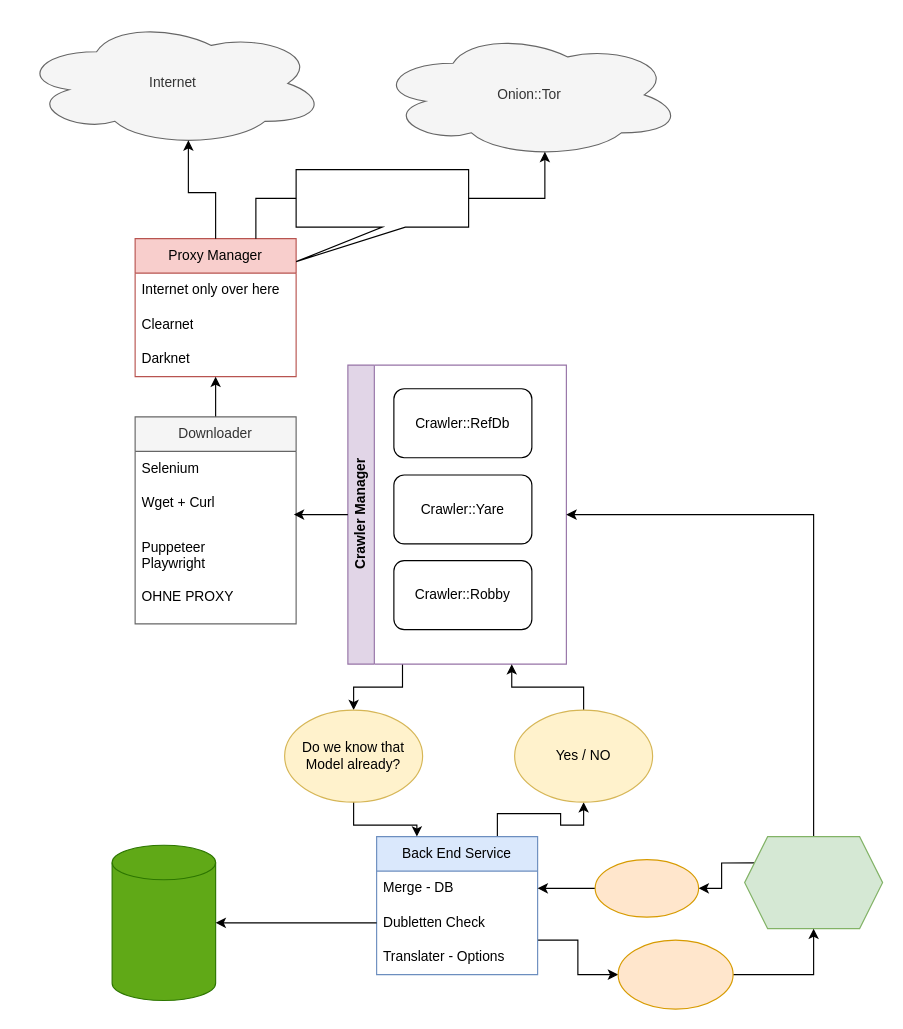
Some shapes in this 903 by 1029 pixel diagram are drawn without their labels. Each missing label, with the centre of its shape:
Controll Master: (813,882)
DB: (163,922)
I am the only one who knows the Internet, Clearnet, Darknet etc.: (382,215)
Is old?: (646,887)
Yes / No / do it monthly: (675,974)
